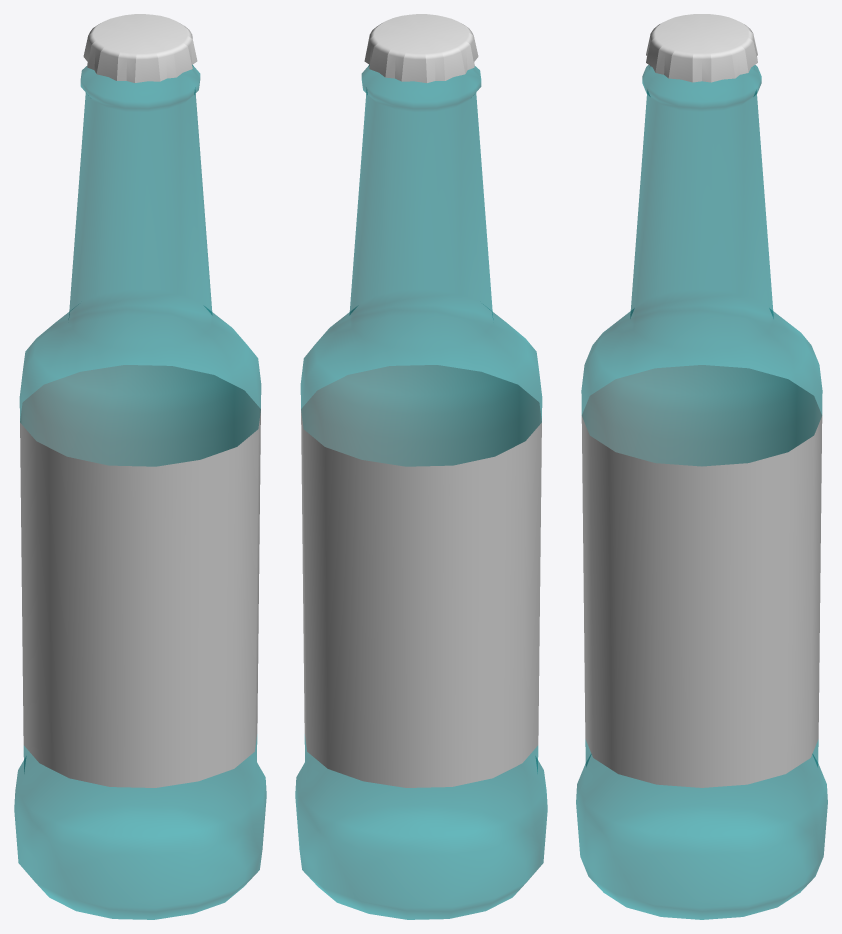
Rendered from ASR_Model_SodaBottle.fbx.
3 views of the same model, side by side, from view 1: azimuth 30°, elevation 25°; view 2: azimuth 150°, elevation 25°; view 3: azimuth 270°, elevation 25° (orthographic).
Parts seen in each view (by area): view 1: ASR_Model_SodaBottle; view 2: ASR_Model_SodaBottle; view 3: ASR_Model_SodaBottle.
Part boxes in pixels (x1=…): ASR_Model_SodaBottle: x1=14, y1=14, x2=266, y2=919; ASR_Model_SodaBottle: x1=295, y1=14, x2=547, y2=919; ASR_Model_SodaBottle: x1=576, y1=14, x2=827, y2=919.
Size of the model in its own units: 1.02 by 3.77 by 1.02.
